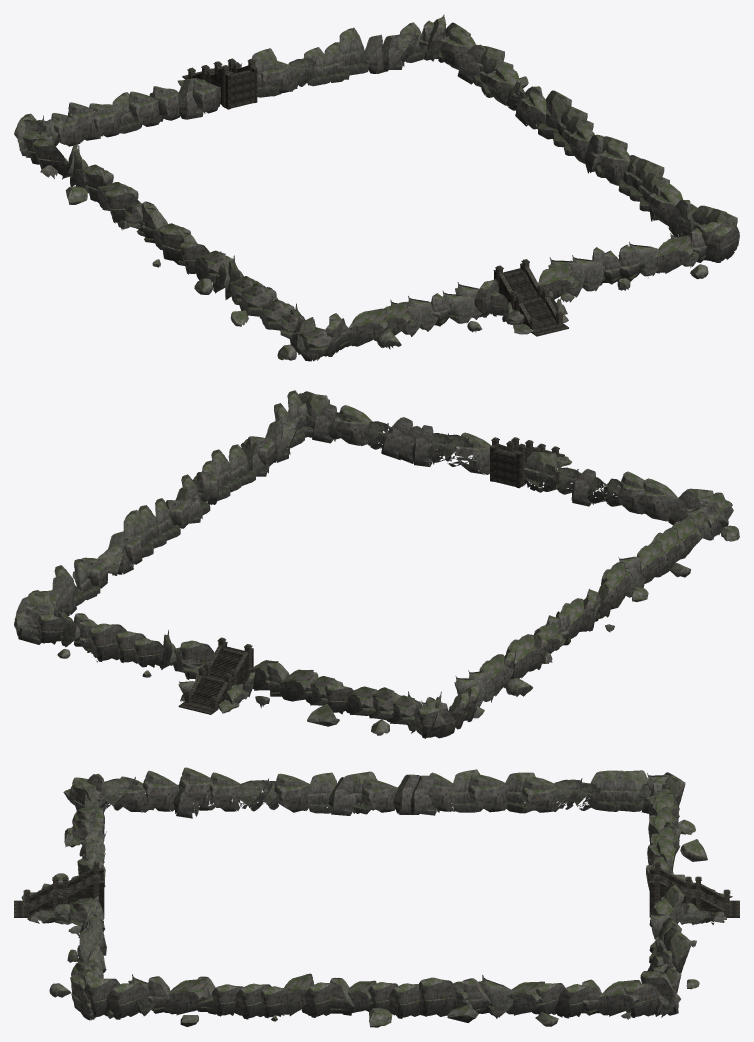
File: lot_base_v13.glb
The picture shows the model from 3 angles, top to bottom: view 1: azimuth 30°, elevation 25°; view 2: azimuth 150°, elevation 25°; view 3: azimuth 270°, elevation 25°; orthographic projection. The views are drawn at different scales.
Visible parts, largest first — view 1: stairs_back, stairs_front, cliff_b_n39, cliff_b_n24, cliff_d_n15, cliff_b_n84, cliff_d_n21, cliff_b_n31, cliff_b_n70, cliff_b_n74, cliff_b_n6, cliff_b_n89 (+30 smaller); view 2: stairs_front, stairs_back, cliff_b_n39, cliff_b_n24, cliff_d_n15, cliff_b_n31, cliff_d_n0, cliff_b_n60, cliff_b_n7, cliff_b_n48, cliff_b_n51, cliff_b_n38 (+28 smaller); view 3: stairs_back, stairs_front, cliff_d_n78, cliff_b_n89, cliff_b_n60, cliff_d_n66, cliff_b_n62, cliff_d_n92, cliff_b_n45, cliff_b_n51, cliff_b_n70, cliff_b_n47 (+45 smaller).
Boxes of the visible parts, x1,y1,x2,y2 form: stairs_back: (493, 259, 568, 336); stairs_front: (182, 58, 257, 109); cliff_b_n39: (348, 308, 393, 346); cliff_b_n24: (653, 235, 698, 273); cliff_d_n15: (338, 27, 368, 75); cliff_b_n84: (599, 140, 630, 185); cliff_d_n21: (704, 225, 739, 262); cliff_b_n31: (538, 263, 578, 299); cliff_b_n70: (439, 27, 475, 69); cliff_b_n74: (486, 62, 520, 105); cliff_b_n6: (128, 91, 163, 126); cliff_b_n89: (648, 181, 682, 226); stairs_front: (178, 637, 253, 714); stairs_back: (490, 437, 564, 488); cliff_b_n39: (636, 478, 678, 521); cliff_b_n24: (333, 405, 372, 445); cliff_d_n15: (88, 623, 126, 662); cliff_b_n31: (454, 432, 490, 474); cliff_d_n0: (416, 706, 455, 738); cliff_b_n60: (506, 634, 539, 678); cliff_b_n7: (279, 669, 318, 701); cliff_b_n48: (636, 541, 667, 583); cliff_b_n51: (601, 562, 633, 609); cliff_b_n38: (616, 471, 645, 514); stairs_back: (14, 861, 104, 917); stairs_front: (649, 861, 739, 917); cliff_d_n78: (418, 977, 456, 1016); cliff_b_n89: (165, 978, 213, 1015); cliff_b_n60: (468, 773, 508, 812); cliff_d_n66: (609, 770, 648, 811); cliff_b_n62: (522, 776, 563, 812); cliff_d_n92: (105, 982, 145, 1019); cliff_b_n45: (142, 770, 180, 811); cliff_b_n51: (274, 773, 309, 812); cliff_b_n70: (596, 980, 643, 1016); cliff_b_n47: (177, 767, 219, 810).
Size of the model in its own units: 122 by 11.27 by 159.
Materials: 10 (10 with a texture image).
